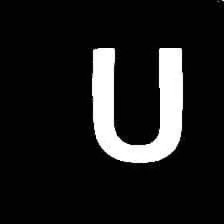LTR_U: (82, 35, 190, 165)
